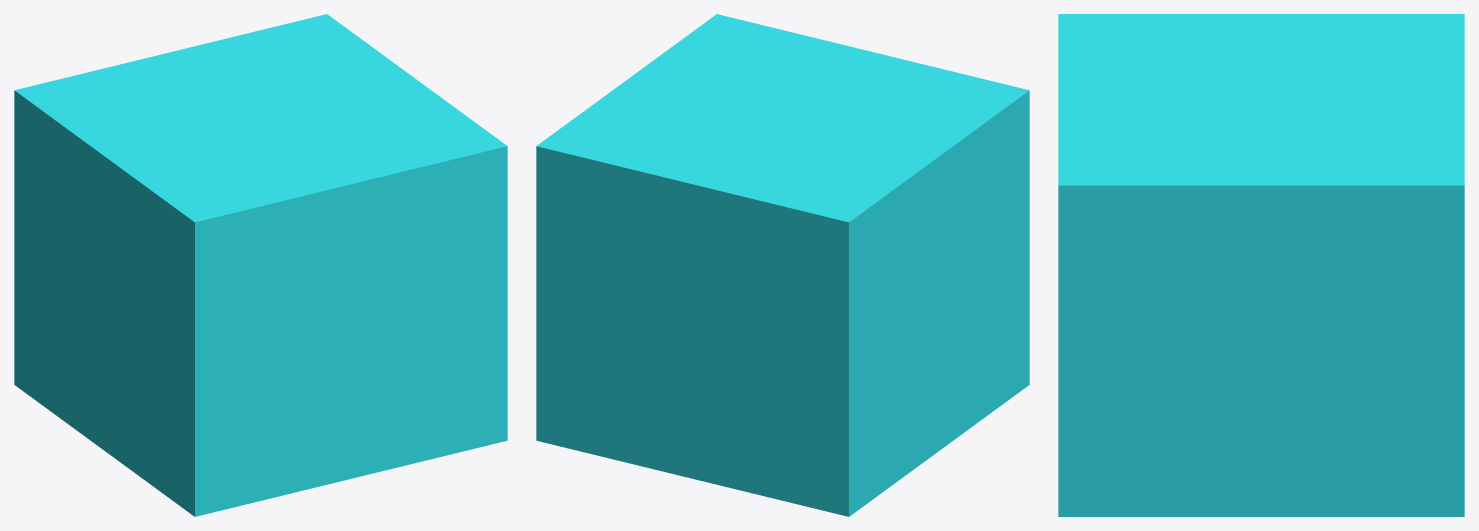
Rendered from WaterBlockFilled_9.fbx.
3 views of the same model, side by side, from view 1: azimuth 30°, elevation 25°; view 2: azimuth 150°, elevation 25°; view 3: azimuth 270°, elevation 25° (orthographic). The views are drawn at different scales.
Visible parts, largest first — view 1: WaterBlockFilled_9; view 2: WaterBlockFilled_9; view 3: WaterBlockFilled_9.
Boxes of the visible parts, box(x1,y1,x2,y2) form: WaterBlockFilled_9: box(14, 14, 507, 516); WaterBlockFilled_9: box(536, 14, 1029, 516); WaterBlockFilled_9: box(1058, 14, 1464, 516).
Bounding box in the file's own units: 1 × 0.9 × 1.
Materials: 1 (1 with a texture image).
